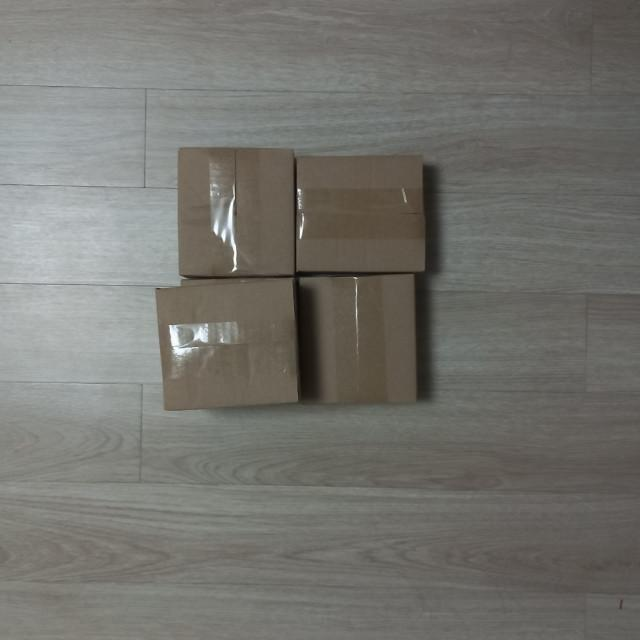box: (152, 276, 302, 414), (292, 150, 428, 276), (173, 140, 297, 278), (298, 274, 422, 408)
